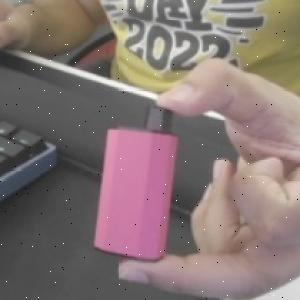Blume-E-Ciggirate: (89, 103, 182, 265)
